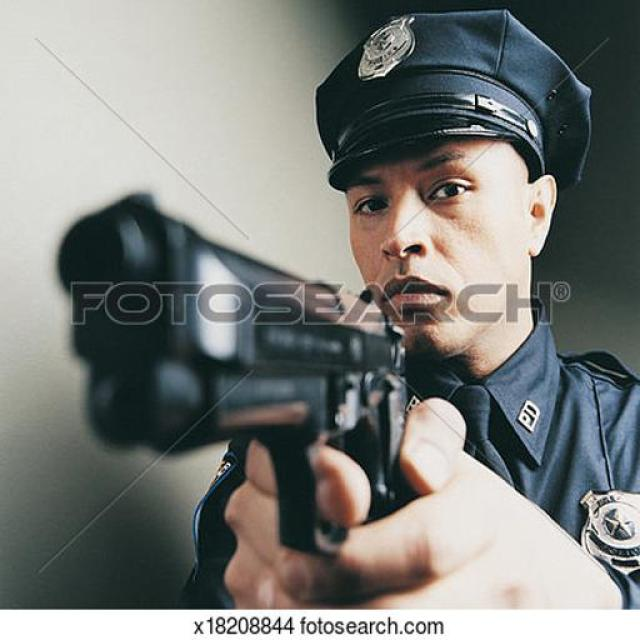pistol: (57, 189, 415, 559)
